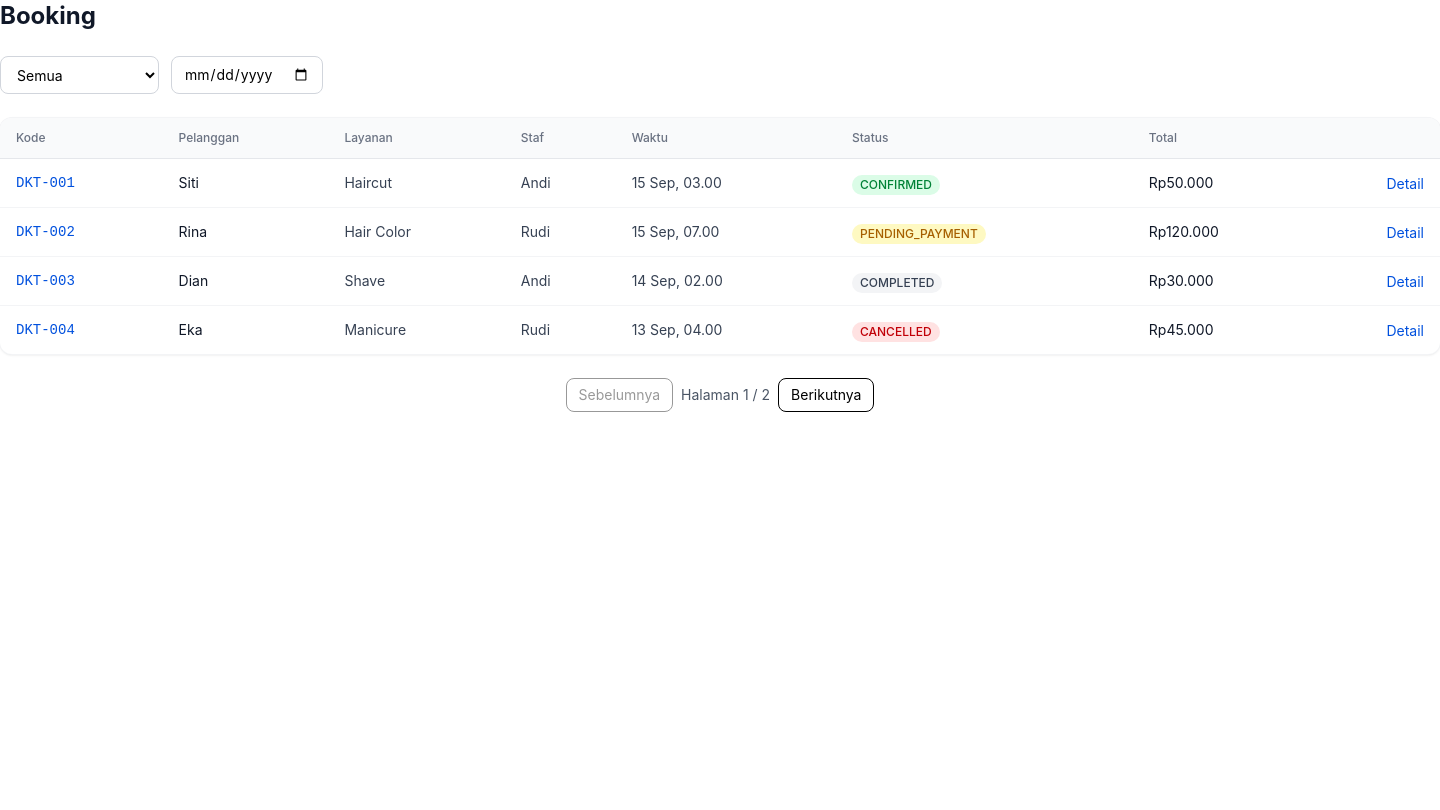
Test: BookingsPage (provider) › shows update status buttons in detail modal for CONFIRMED booking
The width and height of the screenshot is (1440, 810).
expect the text "DKT-001" is shown: met, box [0,158,163,208]
Click the button "Detail" in the row of "DKT-001": (1405, 184) [1386,174,1424,194]
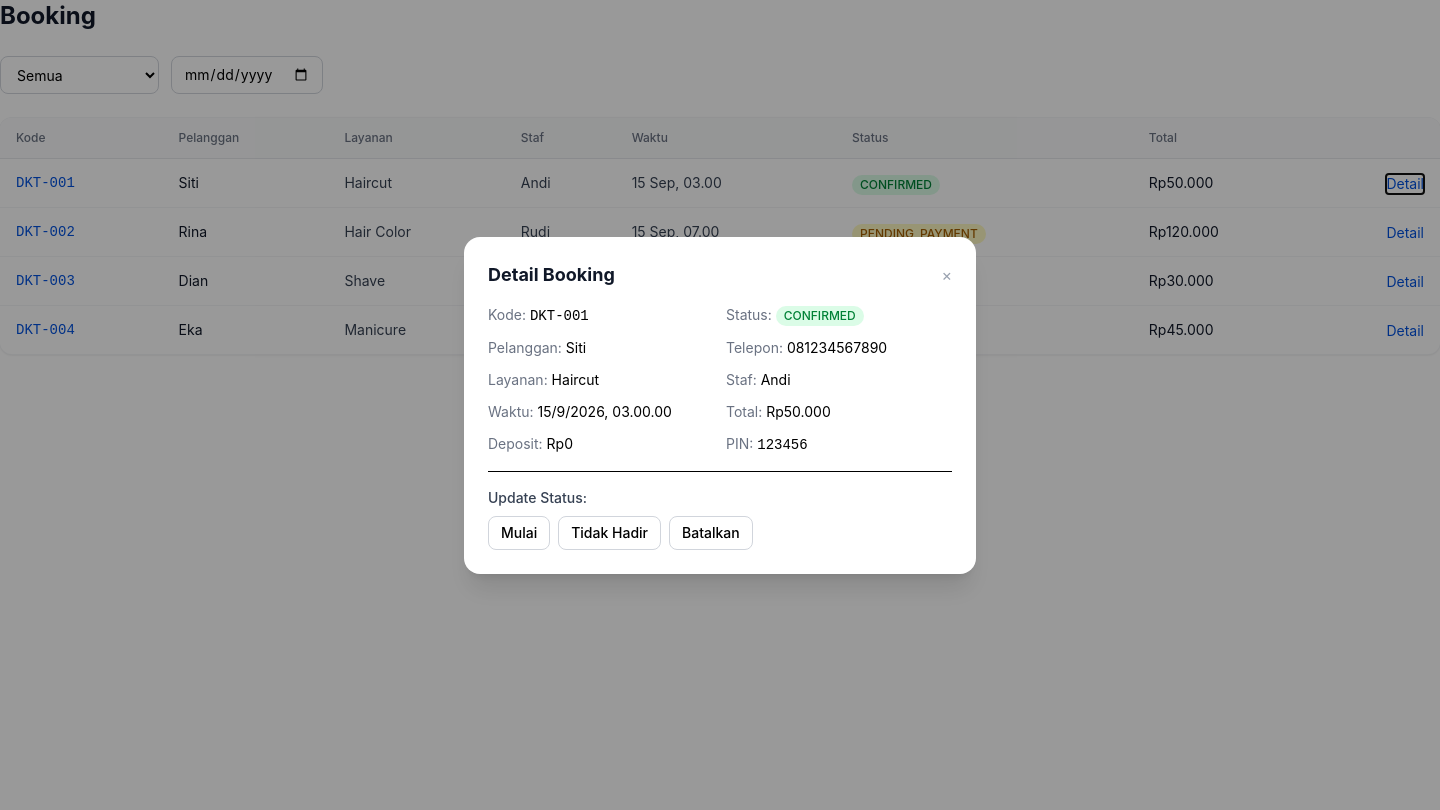
expect the heading "Detail Booking" is shown: met, box [488,260,615,288]
expect the text "Update Status:" is shown: met, box [488,488,587,506]
expect the button "Mulai" is shown: met, box [488,516,550,550]
